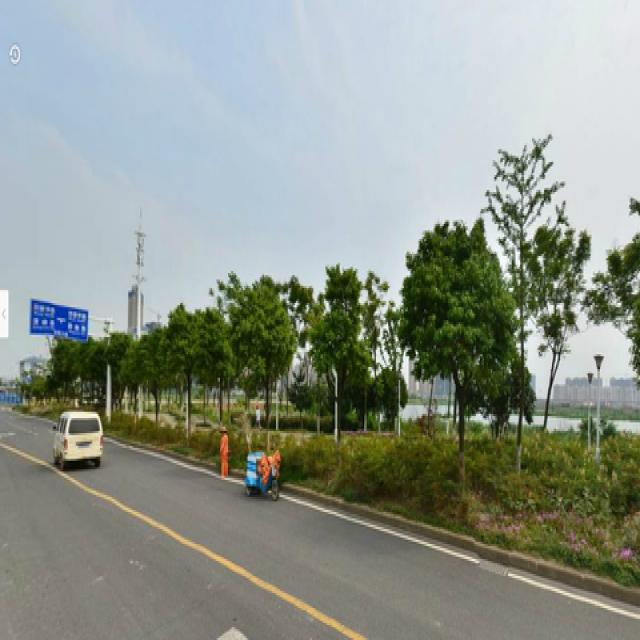cinn: (412, 241, 496, 516), (241, 288, 287, 450)
